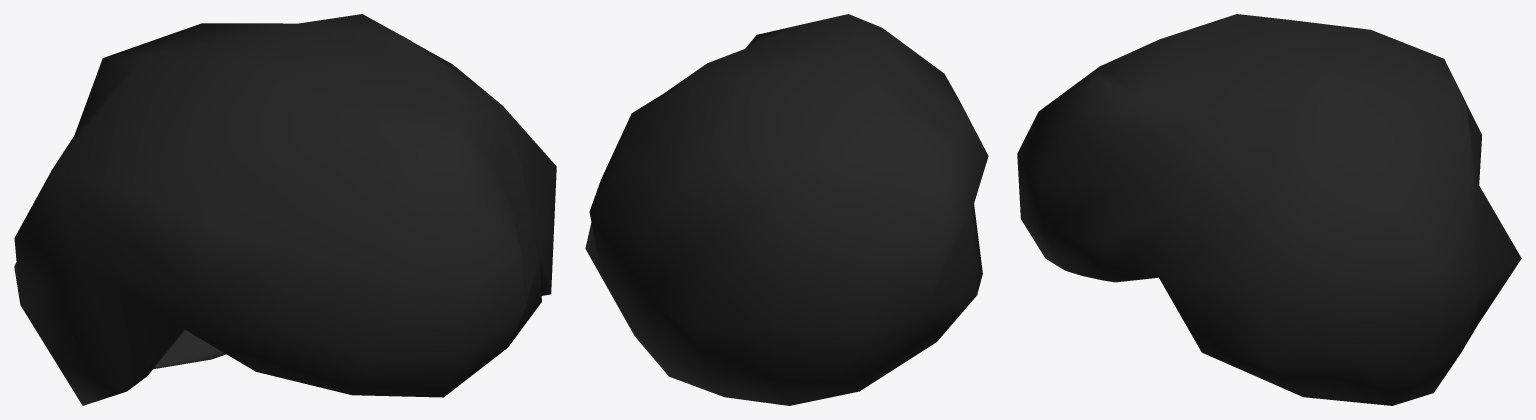
Rendered from Hair_016.glb.
The picture shows the model from 3 angles, left to right: view 1: azimuth 30°, elevation 25°; view 2: azimuth 150°, elevation 25°; view 3: azimuth 270°, elevation 25°; orthographic projection. The views are drawn at different scales.
Parts seen in each view (by area): view 1: Hair_016; view 2: Hair_016; view 3: Hair_016.
Boxes of the visible parts, <box> form: Hair_016: <box>14,14,556,405</box>; Hair_016: <box>585,14,988,405</box>; Hair_016: <box>1017,14,1521,405</box>.
Size of the model in its own units: 0.4996 by 0.3824 by 0.5363.
Materials: 1 (1 with a texture image).
